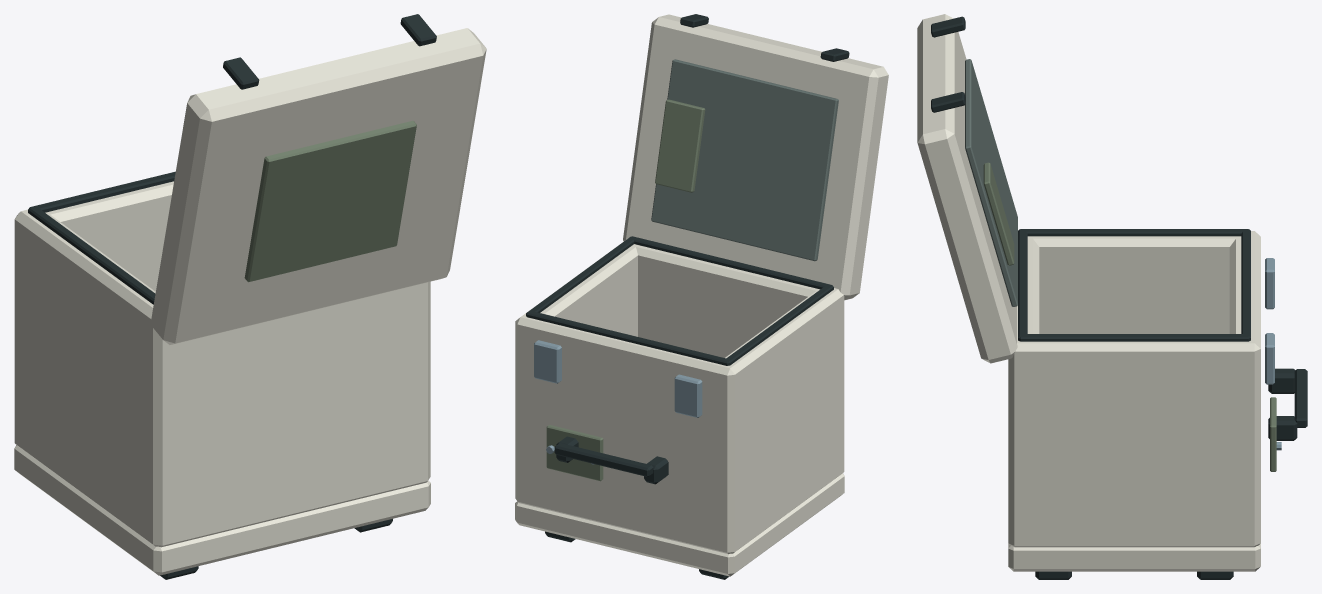
The model's file is pantry_ingredient_bin_opened.glb.
The picture shows the model from 3 angles, left to right: view 1: azimuth 30°, elevation 25°; view 2: azimuth 150°, elevation 25°; view 3: azimuth 270°, elevation 25°; orthographic projection. The views are drawn at different scales.
Visible parts, largest first — view 1: moving_lid, body_back_wall, body_side_wall (×2), moving_lid_identity, body_floor, body_front_wall, rim_seal (×2), moving_latch_hook (×2); view 2: body_front_wall, body_side_wall (×2), moving_lid, moving_lid_pad, body_back_wall, body_floor, rim_seal (×4), moving_scoop_clip, latch_base (×2), ingredient_code_plate, front_carry_grip; view 3: body_side_wall (×2), moving_lid, body_floor, rim_seal (×4), moving_lid_pad, body_front_wall, body_back_wall, moving_scoop_clip, front_carry_mount (×2), latch_base (×2), moving_latch_hook (×2), front_carry_grip (+1 smaller).
Part boxes in pixels (box(x1,y1,x2,y2)): moving_lid: box(150, 28, 486, 344); body_back_wall: box(142, 283, 427, 546); body_side_wall (×2): box(14, 209, 430, 547); moving_lid_identity: box(244, 120, 416, 282); body_floor: box(14, 445, 430, 575); body_front_wall: box(14, 181, 173, 449); rim_seal (×2): box(28, 171, 175, 304); moving_latch_hook (×2): box(223, 14, 436, 89); body_front_wall: box(517, 317, 743, 553); body_side_wall (×2): box(515, 241, 844, 553); moving_lid: box(623, 14, 888, 300); moving_lid_pad: box(651, 59, 838, 261); body_back_wall: box(636, 245, 844, 471); body_floor: box(515, 473, 844, 576); rim_seal (×4): box(526, 236, 833, 365); moving_scoop_clip: box(655, 99, 705, 192); latch_base (×2): box(534, 340, 702, 417); ingredient_code_plate: box(546, 424, 603, 481); front_carry_grip: box(554, 443, 653, 476); body_side_wall (×2): box(1008, 231, 1260, 547); moving_lid: box(917, 14, 1017, 363); body_floor: box(1008, 543, 1260, 571); rim_seal (×4): box(1018, 229, 1250, 341); moving_lid_pad: box(965, 59, 1017, 306); body_front_wall: box(1229, 231, 1260, 545); body_back_wall: box(1014, 236, 1039, 547); moving_scoop_clip: box(983, 162, 1014, 265); front_carry_mount (×2): box(1268, 368, 1297, 440); latch_base (×2): box(1265, 258, 1274, 384); moving_latch_hook (×2): box(931, 16, 965, 112); front_carry_grip: box(1294, 369, 1307, 427).
Bounding box in the file's own units: 0.785 × 1.43 × 1.07.
